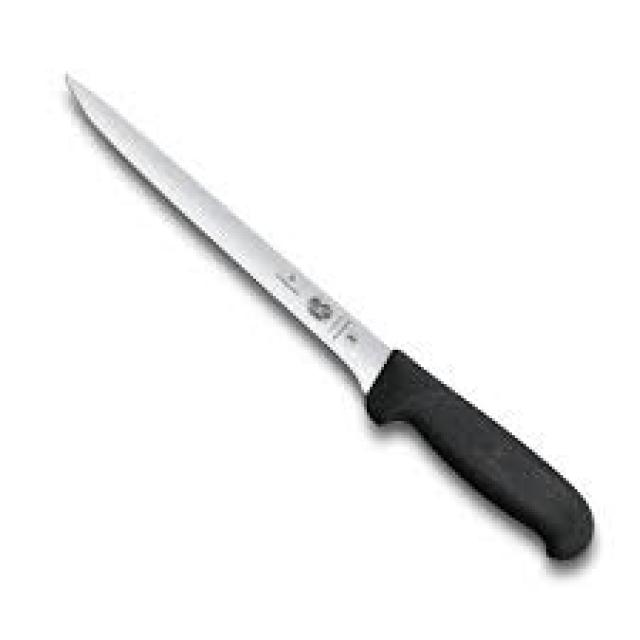knife: (65, 71, 596, 559)
